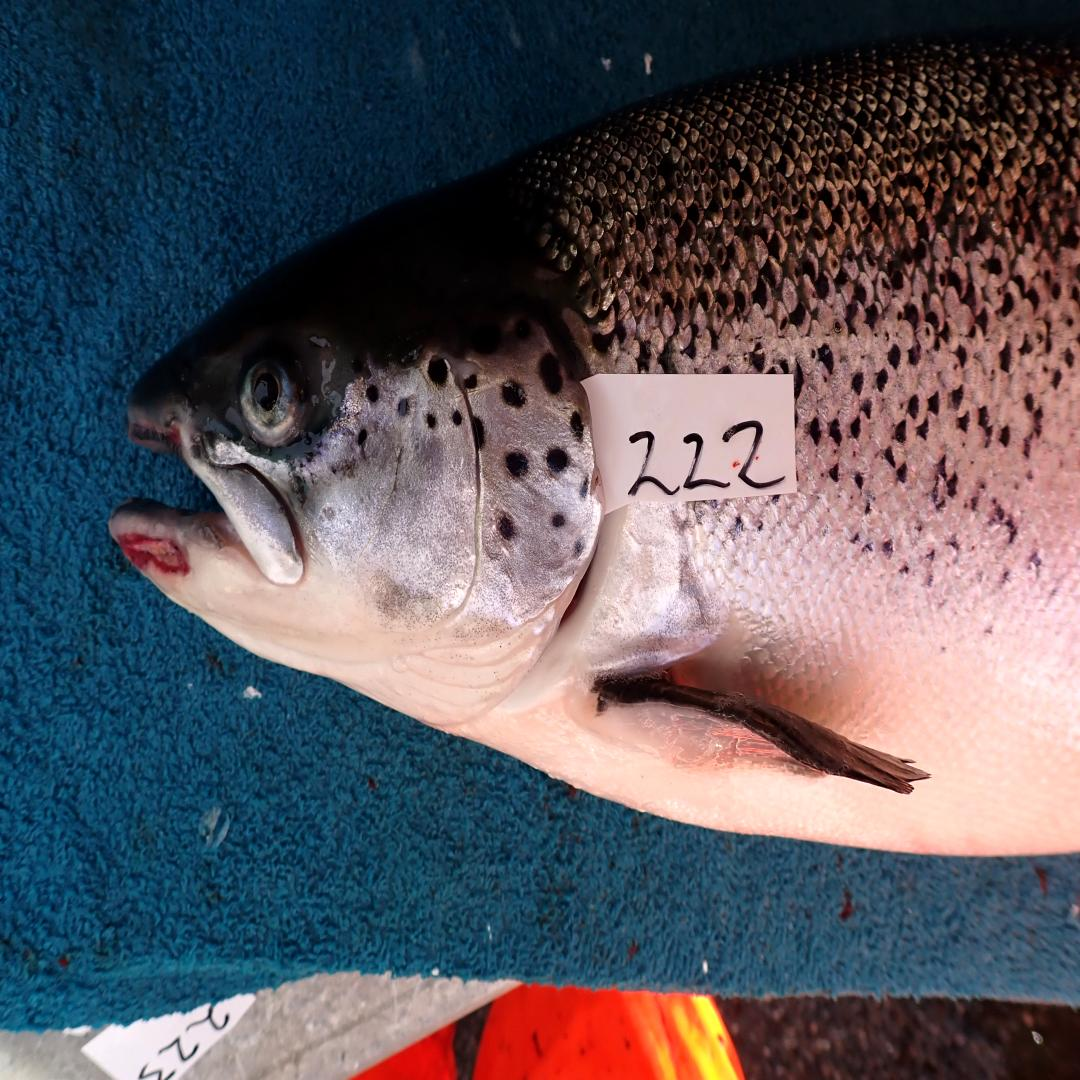roi: (300, 331, 605, 732)
